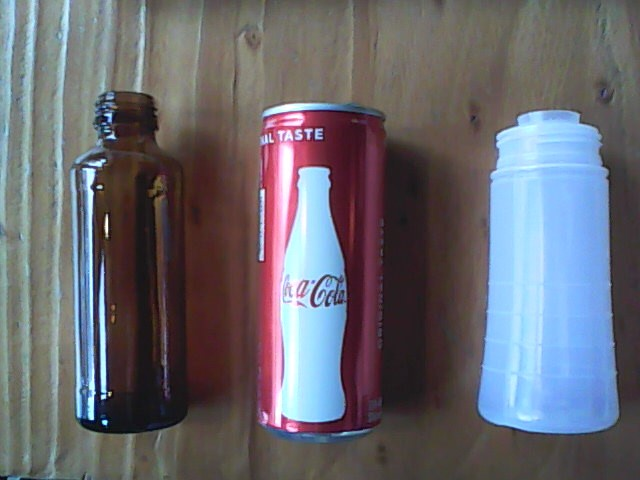Can: (245, 94, 395, 449)
Glass: (60, 83, 195, 437)
Plastic: (469, 97, 626, 440)
